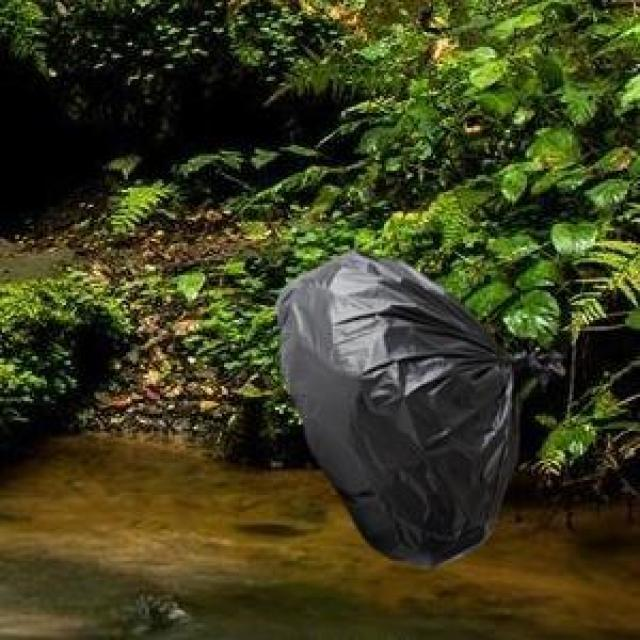miscellaneous trash: (271, 245, 561, 565)
